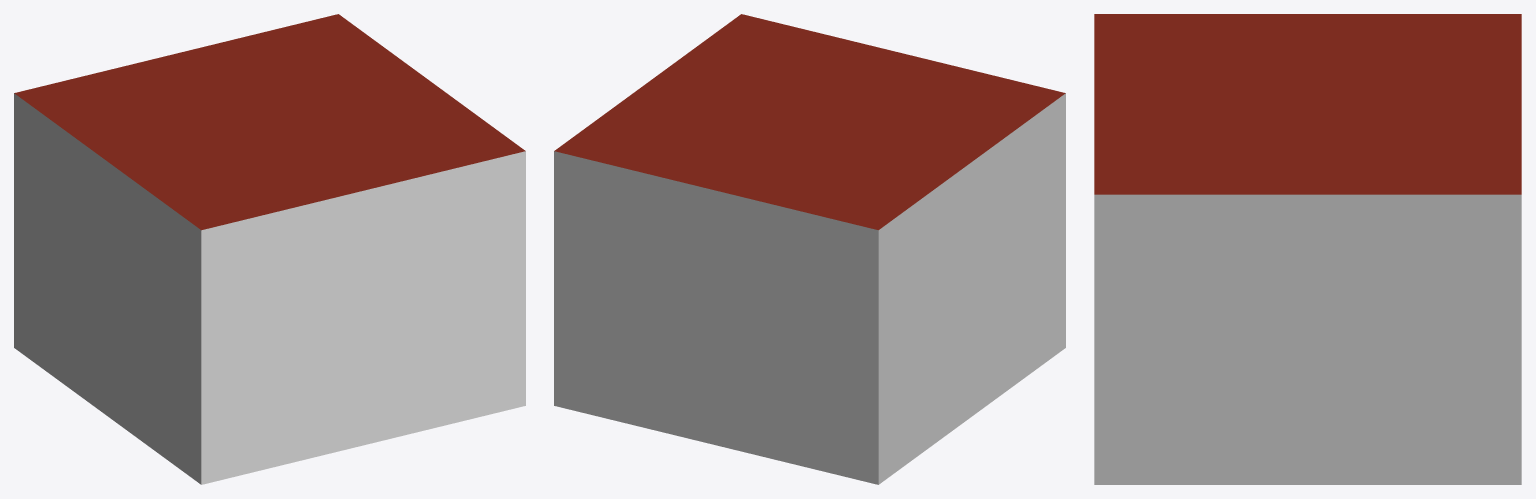
Rendered from painted-notex.glb.
3 views of the same model, side by side, from view 1: azimuth 30°, elevation 25°; view 2: azimuth 150°, elevation 25°; view 3: azimuth 270°, elevation 25° (orthographic). The views are drawn at different scales.
Parts seen in each view (by area): view 1: t, lid; view 2: t, lid; view 3: t, lid.
Boxes of the visible parts, x1=… form: t: x1=14, y1=93, x2=525, y2=484; lid: x1=14, y1=14, x2=525, y2=230; t: x1=554, y1=93, x2=1065, y2=484; lid: x1=554, y1=14, x2=1065, y2=230; t: x1=1094, y1=194, x2=1521, y2=484; lid: x1=1094, y1=14, x2=1521, y2=194.
Bounding box in the file's own units: 2 × 1.5 × 2.
